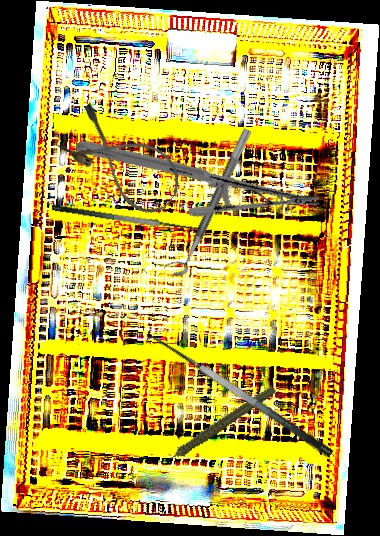Cannula: (54, 98, 192, 224)
Fixation Ring: (162, 122, 253, 280)
Handpiece: (145, 383, 287, 468)
Needle Holder: (73, 82, 323, 266)
Spatula Surgical: (140, 324, 335, 474), (51, 191, 202, 237)
